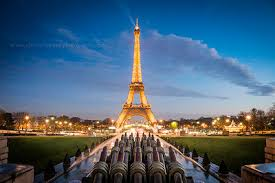tower: (108, 15, 164, 135)
